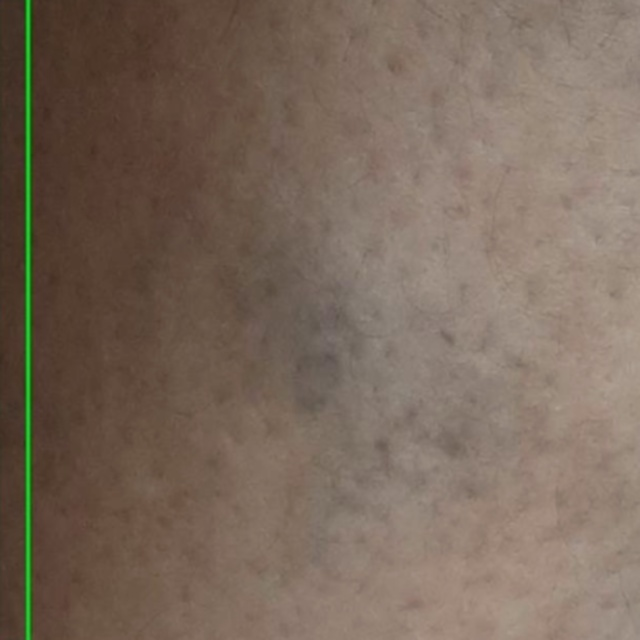Eczema: (0, 0, 28, 639)
